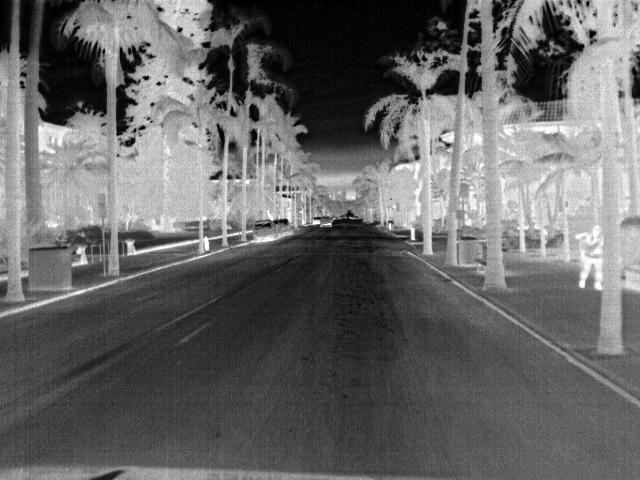car: (251, 220, 279, 243), (273, 218, 293, 236), (318, 215, 333, 227), (310, 215, 322, 227)
person: (573, 224, 603, 287)
